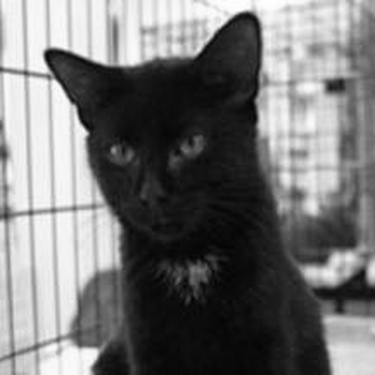cat: (44, 10, 329, 372)
